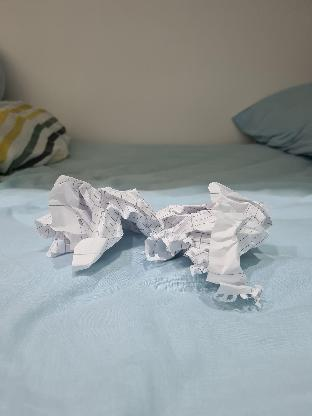Paper: (153, 178, 271, 306), (40, 172, 144, 272)
